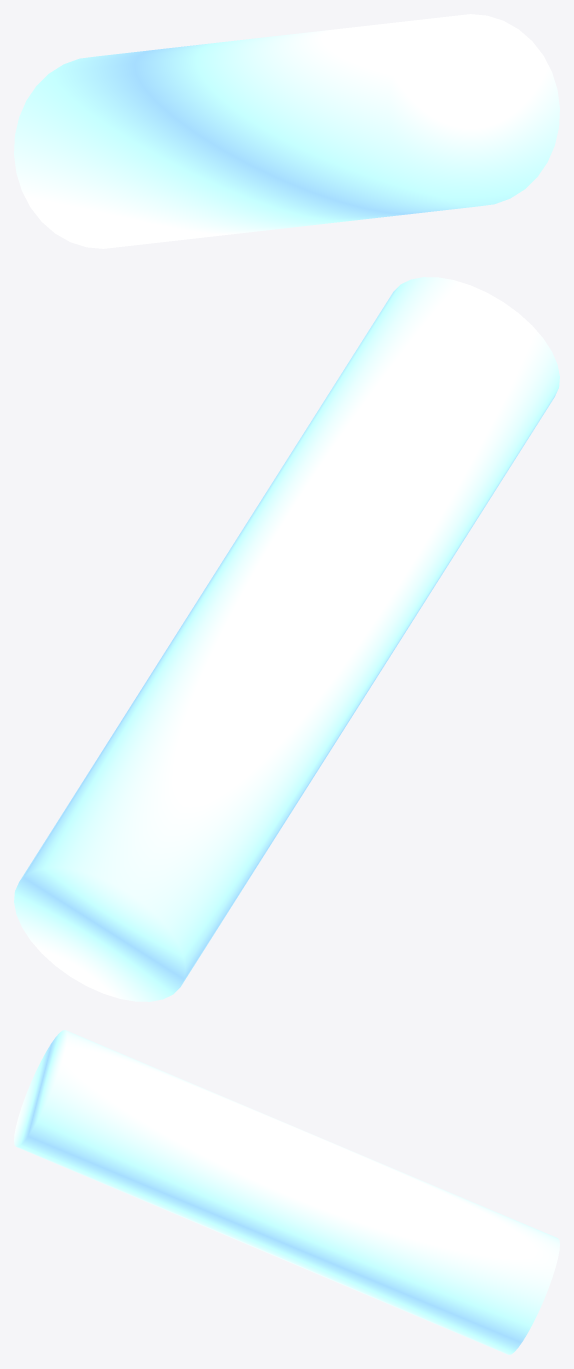
Rendered from HATCH_Exhaust_Competition_Downpipe.glb.
3 renders of one model, top to bottom at view 1: azimuth 30°, elevation 25°; view 2: azimuth 150°, elevation 25°; view 3: azimuth 270°, elevation 25°, orthographic. The views are drawn at different scales.
Parts seen in each view (by area): view 1: HATCH_Exhaust_Competition_Downpipe; view 2: HATCH_Exhaust_Competition_Downpipe; view 3: HATCH_Exhaust_Competition_Downpipe.
Part boxes in pixels (box(x1,y1,x2,y2)): HATCH_Exhaust_Competition_Downpipe: box(14, 14, 559, 248); HATCH_Exhaust_Competition_Downpipe: box(14, 277, 559, 1001); HATCH_Exhaust_Competition_Downpipe: box(14, 1030, 559, 1354).
Size of the model in its own units: 0.084 by 0.2283 by 0.3618.
